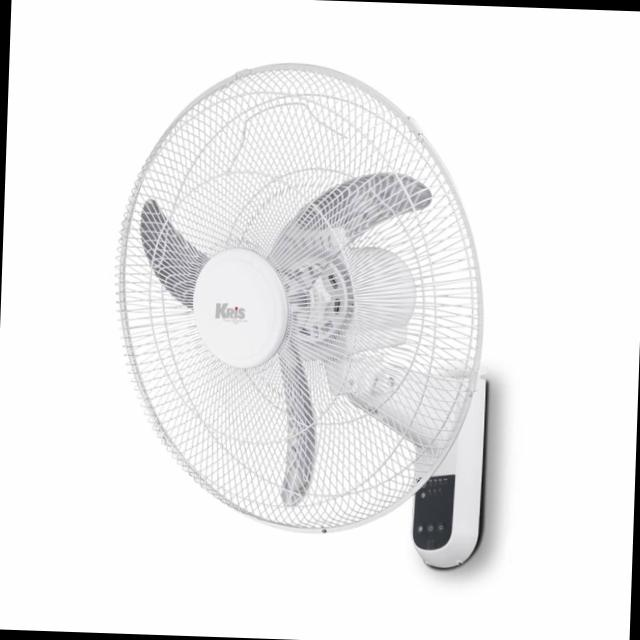fan: (102, 48, 528, 587)
